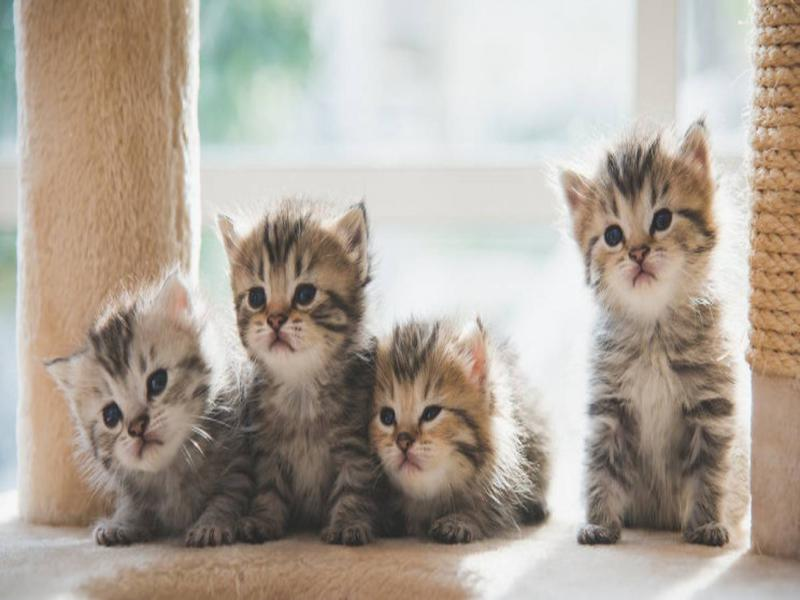cat: (552, 116, 744, 551), (216, 196, 403, 549), (40, 257, 257, 551), (369, 315, 565, 544)
